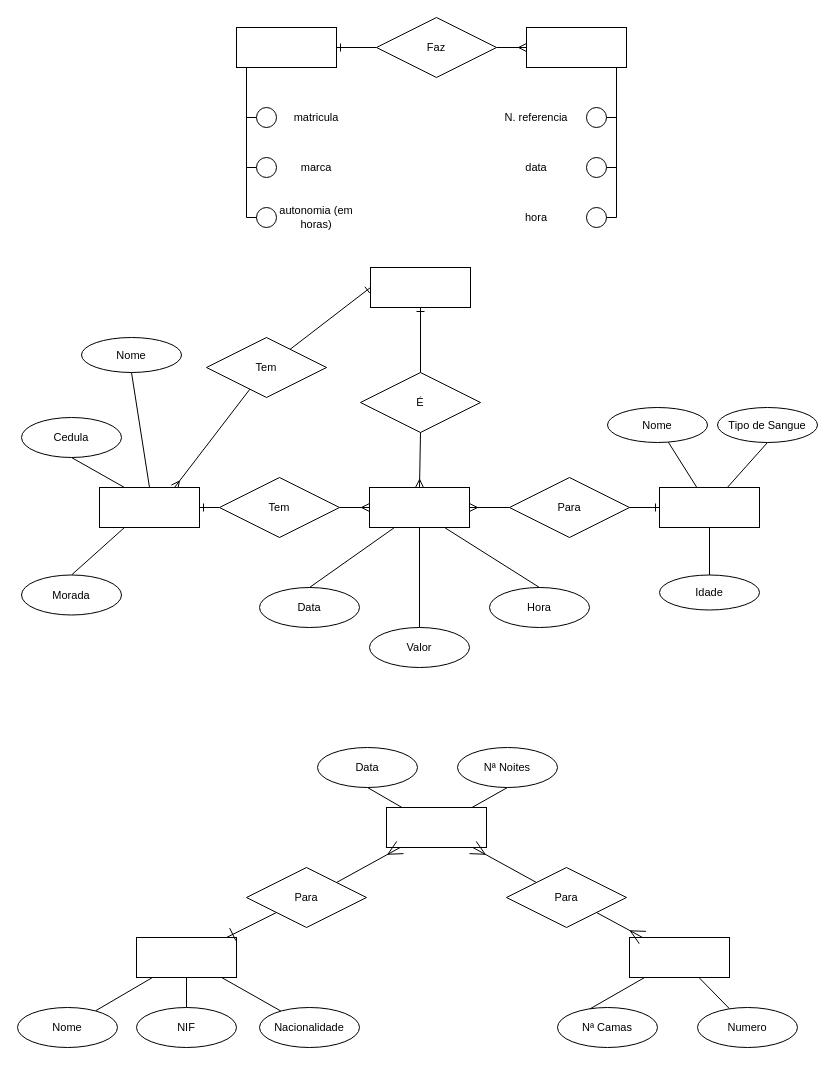
Some shapes in this 835 by 1065 pixel diagram are drawn without their labels. Here are the shapes that lost their labels. From the top down, the centre of each, then its label:
the point at 286,47: Aviao
the point at 576,47: Voo
the point at 420,287: Especialidade
the point at 149,507: Medico
the point at 419,507: Consulta
the point at 709,507: Paciente
the point at 436,827: Reservas
the point at 186,957: Clientes
the point at 679,957: Quartos
